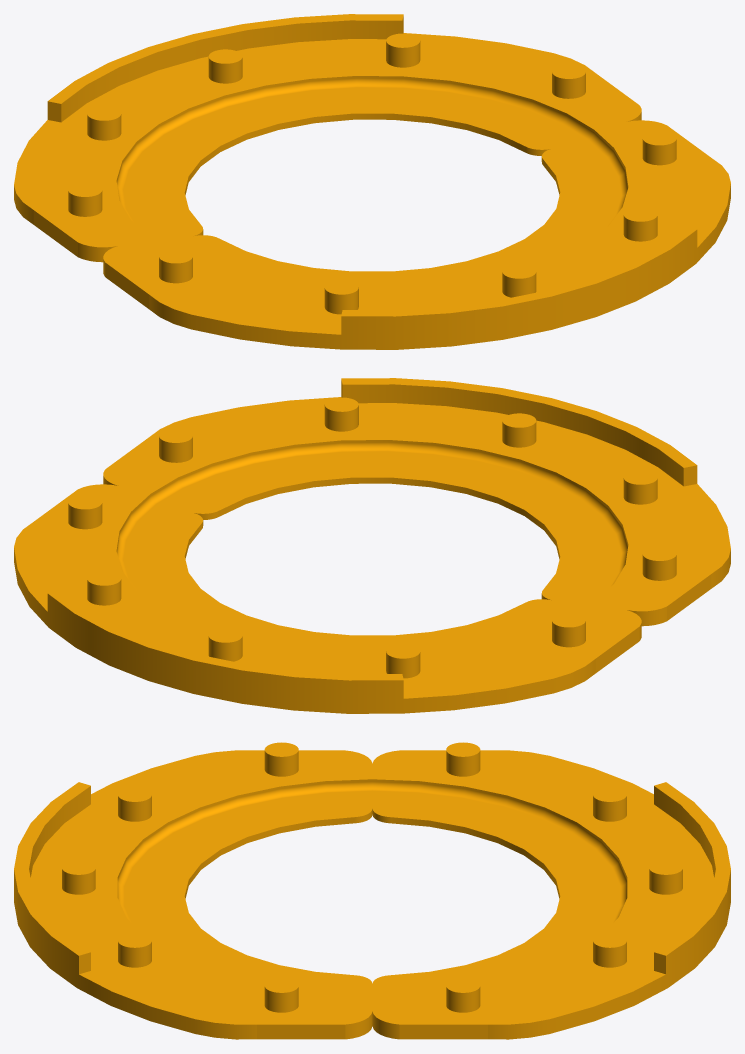
File: RingHollister11203.glb
3 renders of one model, top to bottom at view 1: azimuth 30°, elevation 25°; view 2: azimuth 150°, elevation 25°; view 3: azimuth 270°, elevation 25°, orthographic.
Parts seen in each view (by area): view 1: Mirrored004; view 2: Mirrored004; view 3: Mirrored004.
Part boxes in pixels (box(x1,y1,x2,y2)): Mirrored004: box(14, 14, 730, 349); Mirrored004: box(14, 378, 730, 713); Mirrored004: box(14, 742, 730, 1039).
Bounding box in the file's own units: 0.095 × 0.0056 × 0.105.
